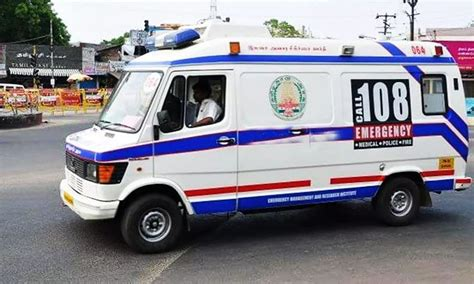ambulance: (60, 19, 392, 255)
